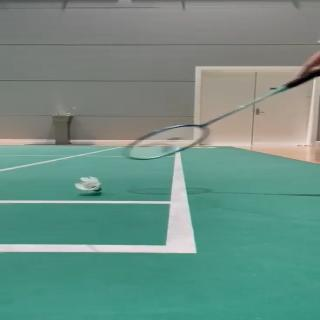Shuttle: (75, 176, 104, 192)
